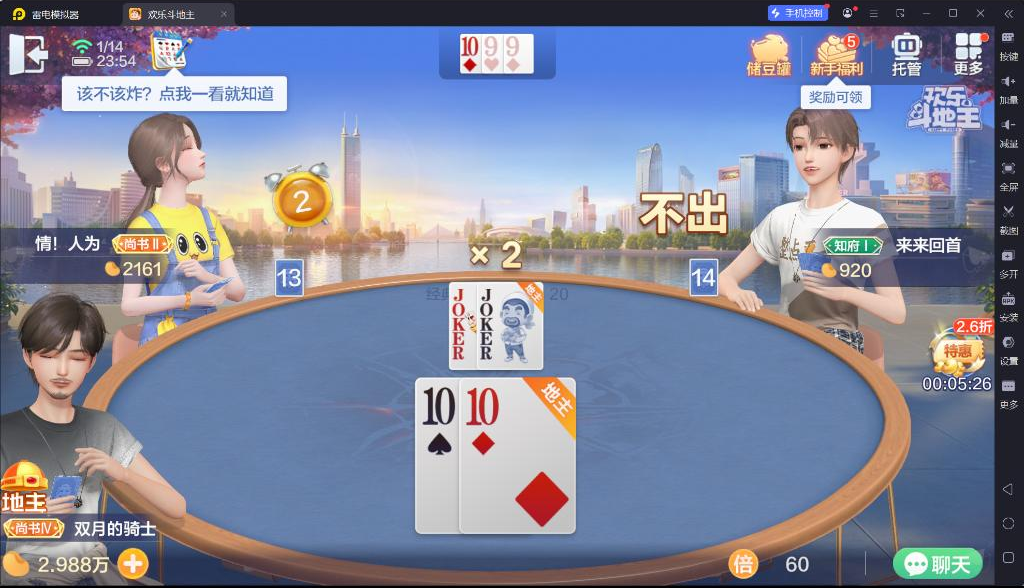JOKER: (451, 286, 469, 337)
joker: (479, 286, 495, 336)
nine: (483, 35, 500, 58), (505, 35, 521, 58)
ten: (420, 383, 459, 429), (465, 384, 501, 428), (460, 35, 480, 57)
